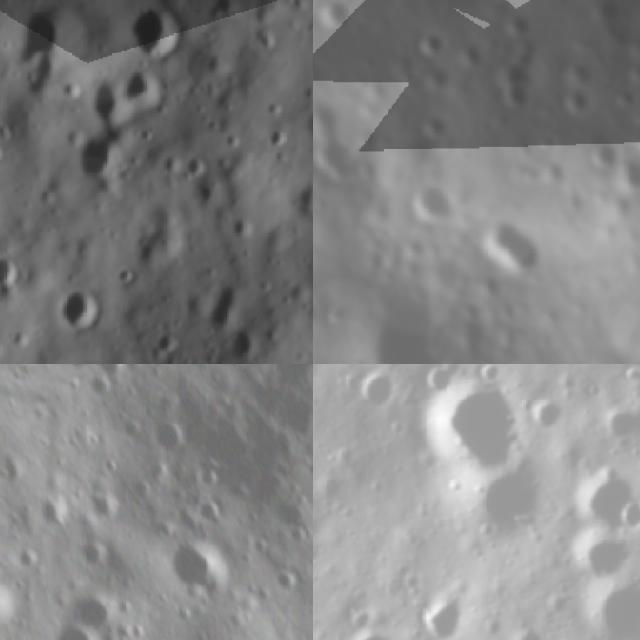crater: (407, 379, 521, 491), (152, 519, 240, 610), (12, 0, 96, 89), (464, 466, 548, 550), (57, 573, 123, 640), (65, 124, 133, 189), (122, 0, 188, 62), (70, 478, 132, 538), (68, 520, 127, 580), (484, 218, 535, 282), (54, 282, 110, 340), (138, 409, 194, 466), (568, 477, 637, 523), (31, 477, 87, 532), (195, 274, 246, 334), (591, 579, 640, 640), (81, 73, 133, 130), (564, 537, 640, 576), (33, 605, 116, 640), (342, 372, 393, 424), (117, 62, 164, 116), (0, 561, 31, 640), (221, 318, 267, 364), (425, 597, 464, 640), (286, 172, 313, 230), (411, 180, 448, 220), (529, 398, 567, 433), (316, 482, 359, 512), (148, 326, 181, 359), (0, 250, 25, 291), (227, 211, 259, 243), (180, 148, 210, 180), (156, 148, 184, 178), (609, 413, 640, 440), (266, 125, 291, 154), (116, 261, 138, 292), (580, 383, 604, 404), (621, 506, 640, 532), (511, 627, 546, 640), (348, 611, 373, 629)
